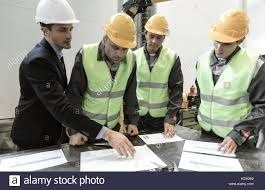helmet: (210, 9, 250, 43), (102, 13, 136, 48), (32, 1, 79, 25), (144, 14, 169, 35)
person with full safety: (195, 7, 262, 147), (81, 12, 138, 145), (139, 13, 182, 141)
person with partial safety: (15, 1, 76, 148)
safety vest: (196, 48, 259, 139), (81, 45, 135, 130), (135, 46, 177, 116)
